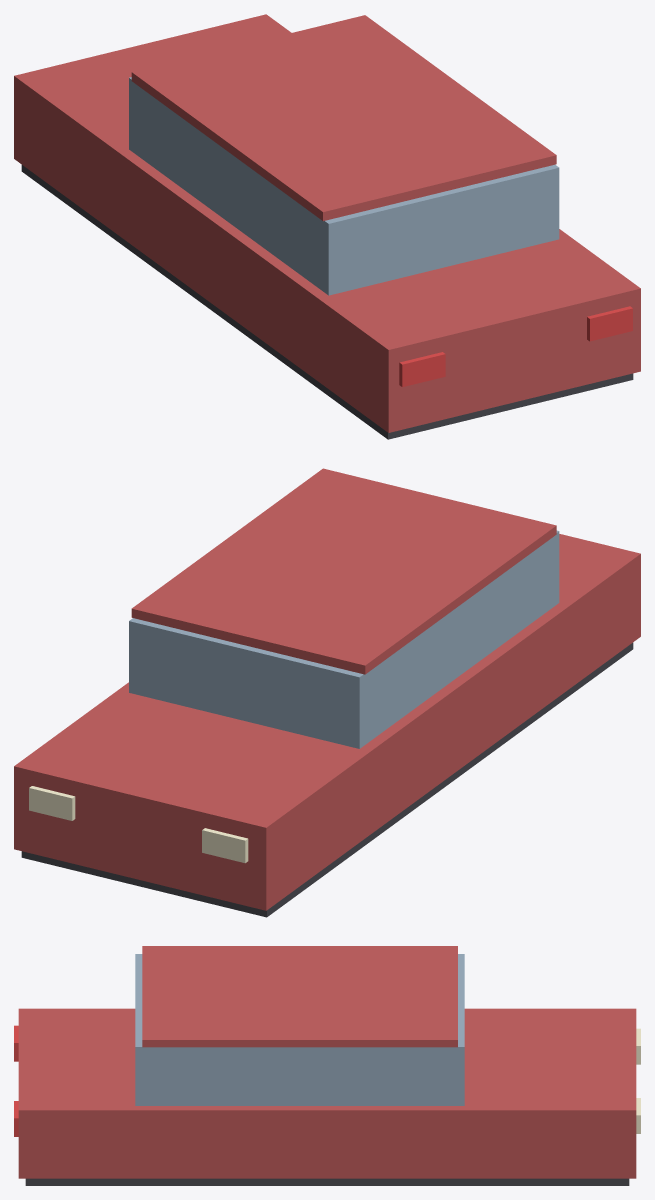
Rendered from car_body.glb.
The picture shows the model from 3 angles, top to bottom: view 1: azimuth 30°, elevation 25°; view 2: azimuth 150°, elevation 25°; view 3: azimuth 270°, elevation 25°; orthographic projection. The views are drawn at different scales.
Bounding box in the file's own units: 1.75 × 1.15 × 4.57.
